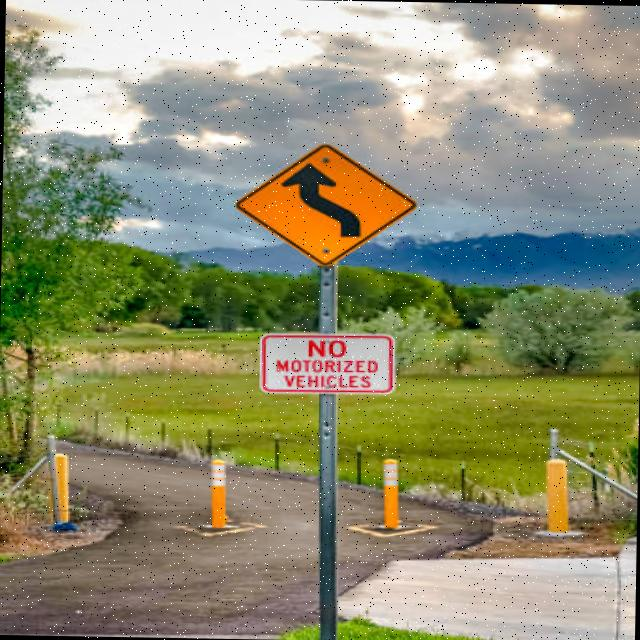left_sharp_curve: (224, 135, 425, 277)
